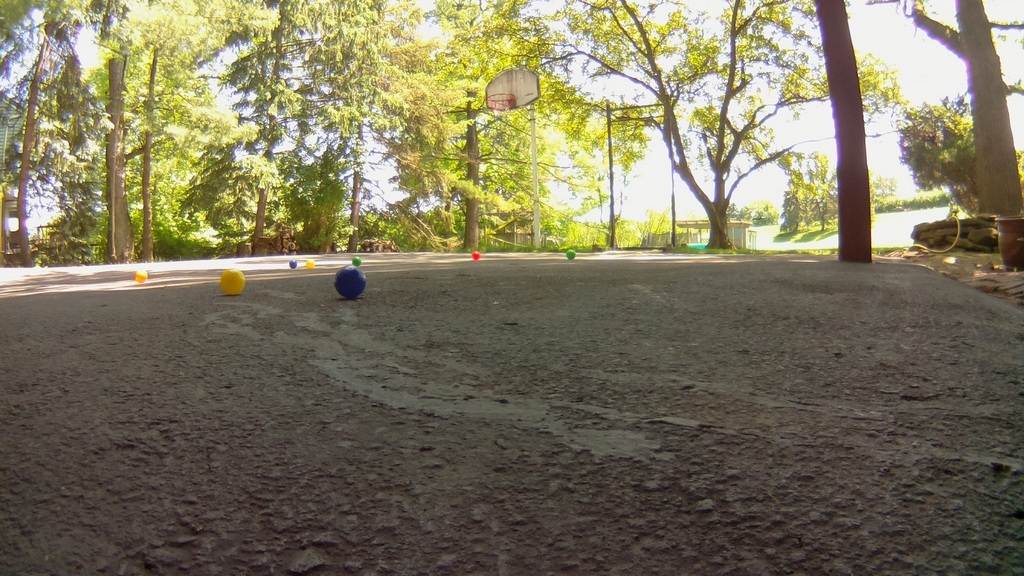ball: (220, 267, 246, 299)
